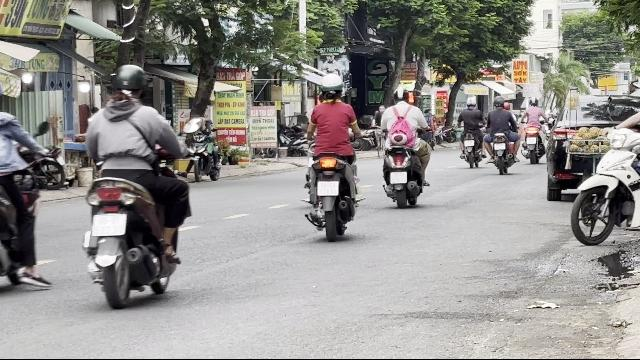helmet: (109, 63, 148, 103), (318, 74, 344, 102), (390, 84, 410, 104)
licenseplate: (92, 214, 128, 236), (317, 182, 338, 196), (391, 172, 407, 184)
motorcyclist: (77, 62, 193, 306), (300, 73, 364, 239), (378, 82, 432, 206)
